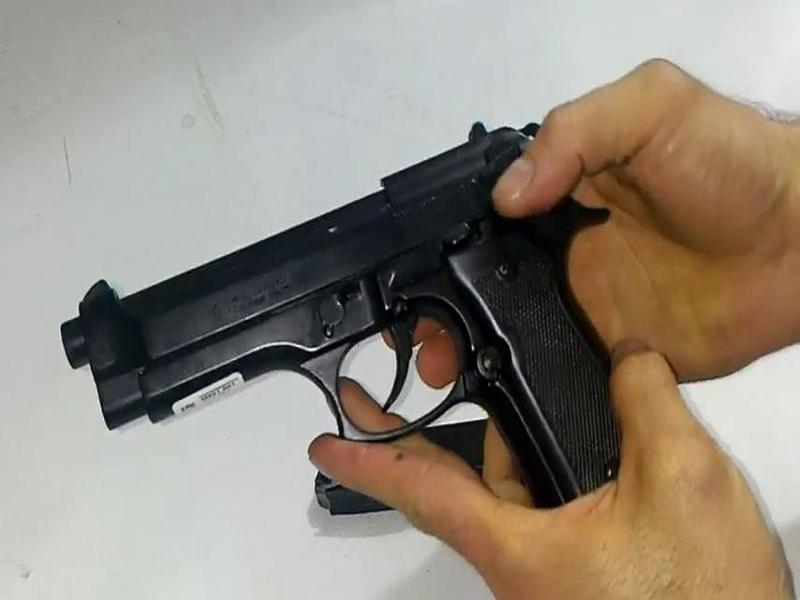Pistola: (55, 96, 662, 539)
